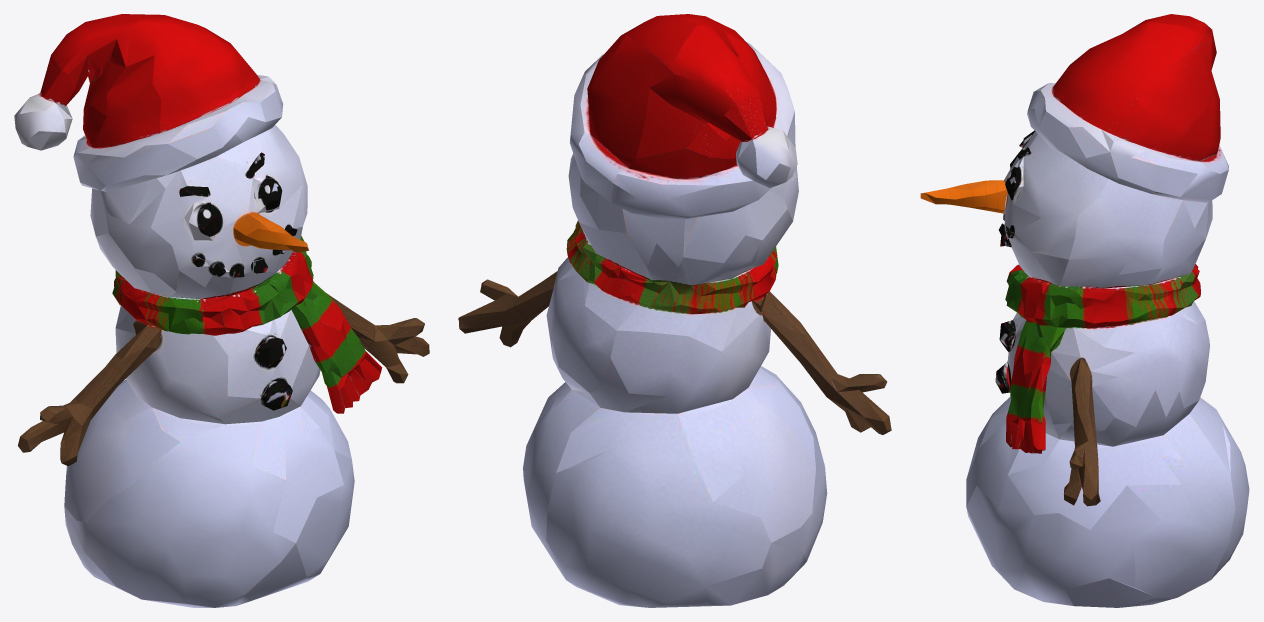
Rendered from snowman1.glb.
The picture shows the model from 3 angles, left to right: view 1: azimuth 30°, elevation 25°; view 2: azimuth 150°, elevation 25°; view 3: azimuth 270°, elevation 25°; orthographic projection. The views are drawn at different scales.
Visible parts, largest first — view 1: output_unwrapped; view 2: output_unwrapped; view 3: output_unwrapped.
Part boxes in pixels (left/top/right/bottom): output_unwrapped: left=14, top=14, right=429, bottom=607; output_unwrapped: left=458, top=14, right=891, bottom=607; output_unwrapped: left=920, top=14, right=1249, bottom=607.
Size of the model in its own units: 1.52 by 1.9 by 1.09.
1 material, 1 textured.
